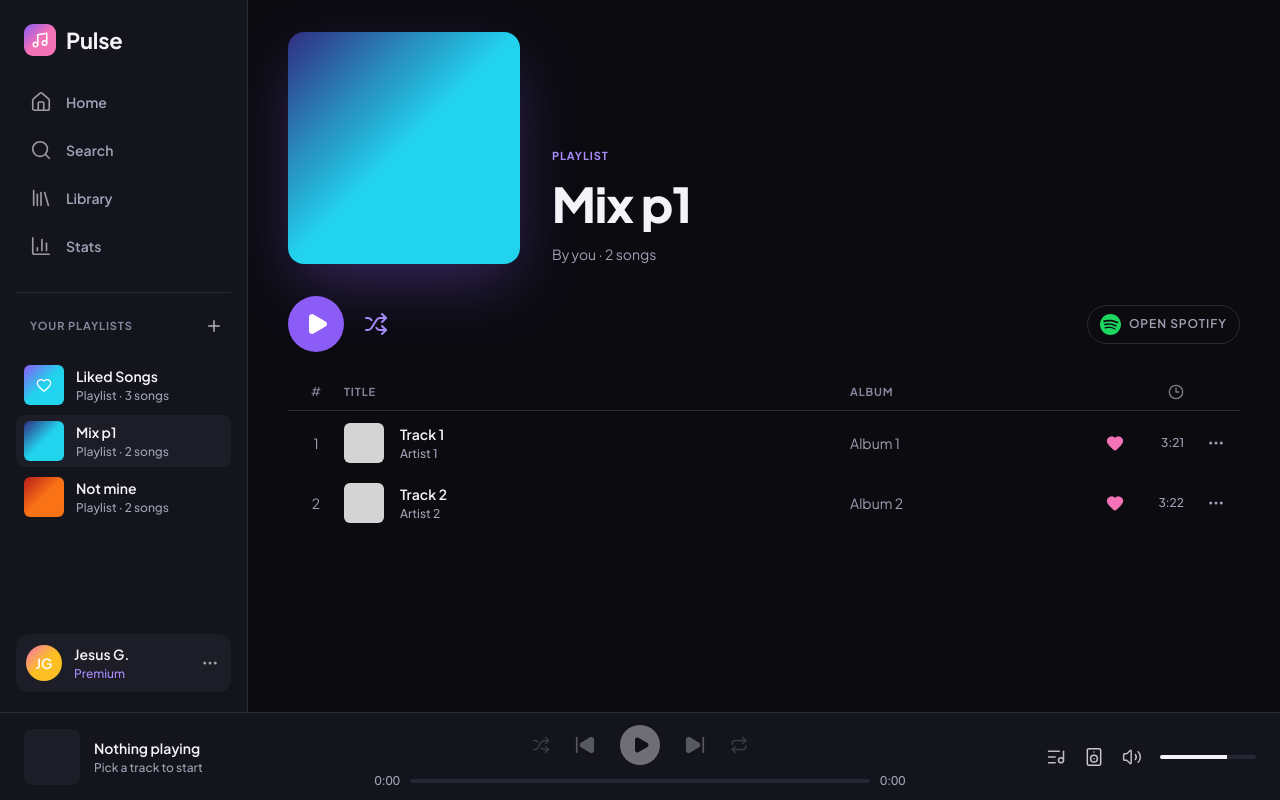
it: PlaylistPage › rolls back a failed removal
Click the button named "More options for Track 1" at (1216, 443), box [1200,427,1232,459]
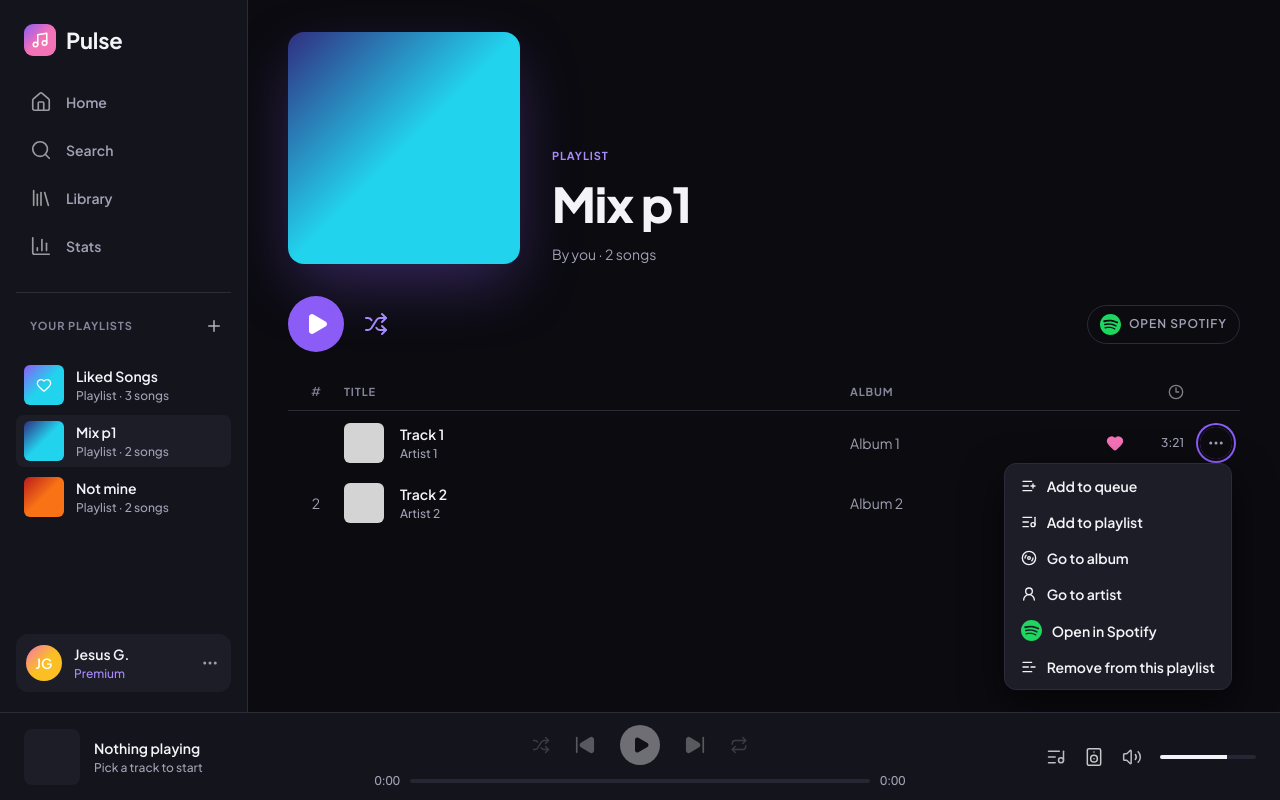
Click the menu item "Remove from this playlist" at (1118, 667), box [1009,649,1227,685]
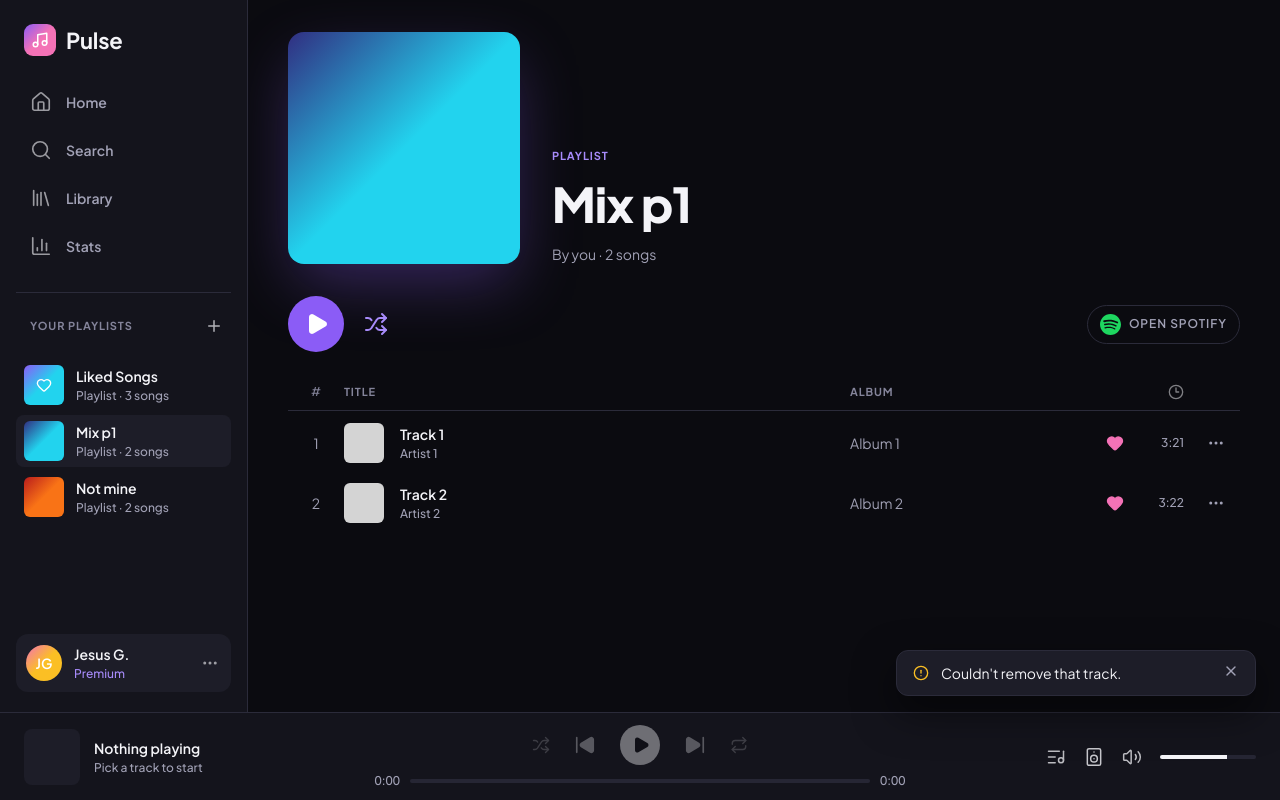
Expected: the text "Track 1" is shown, [400,425,444,443]
Result: the text "Couldn't remove that track." is shown at [941,664,1121,682]
